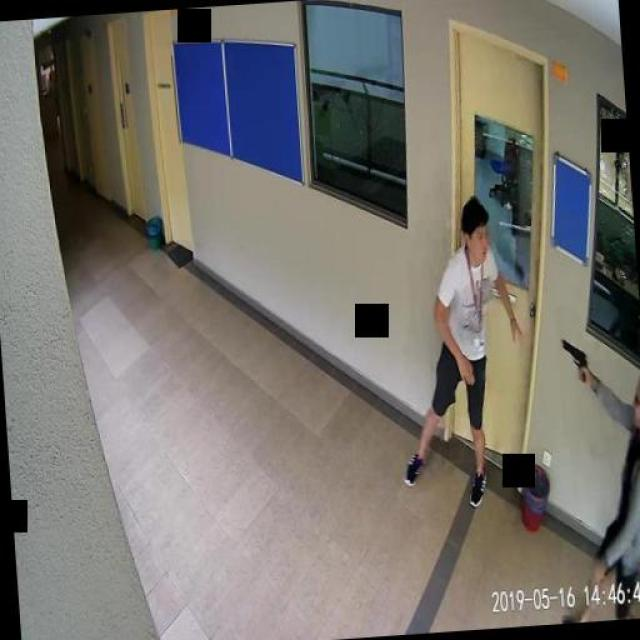gun: (556, 335, 592, 387)
